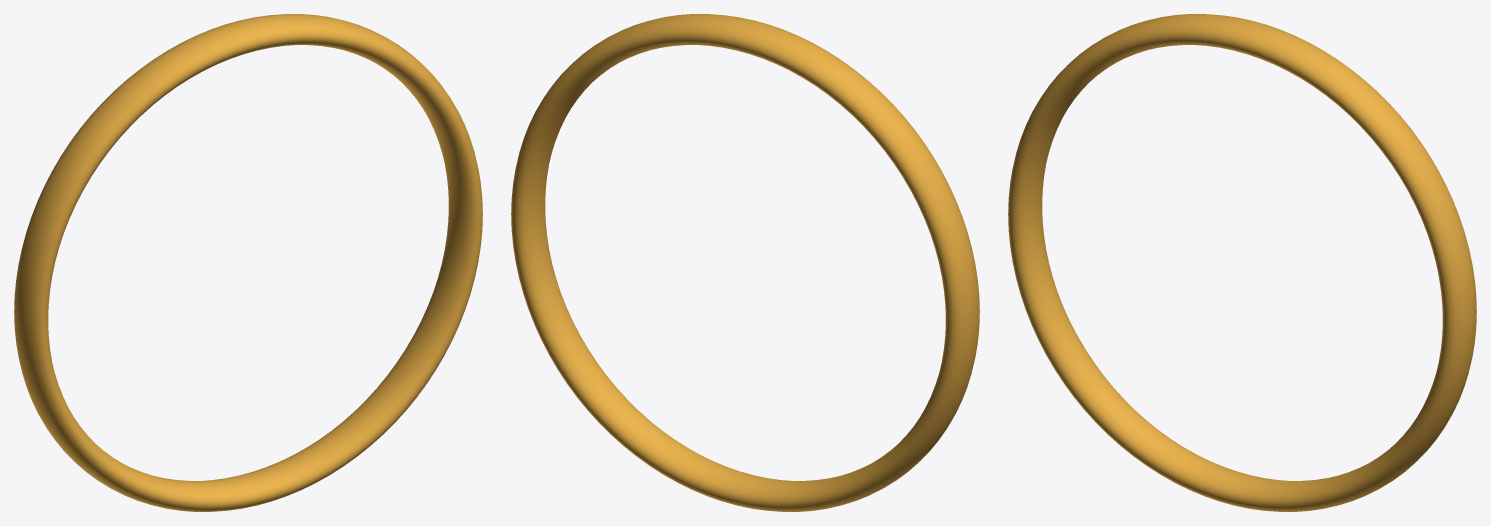
File: ring3d.glb
The picture shows the model from 3 angles, left to right: view 1: azimuth 30°, elevation 25°; view 2: azimuth 150°, elevation 25°; view 3: azimuth 330°, elevation 25°; orthographic projection.
Parts seen in each view (by area): view 1: Torus; view 2: Torus; view 3: Torus.
Part boxes in pixels (<box>): Torus: <box>14,14,482,511</box>; Torus: <box>511,14,979,511</box>; Torus: <box>1008,14,1476,511</box>.
Size of the model in its own units: 0.0523 by 0.0523 by 0.00479.
